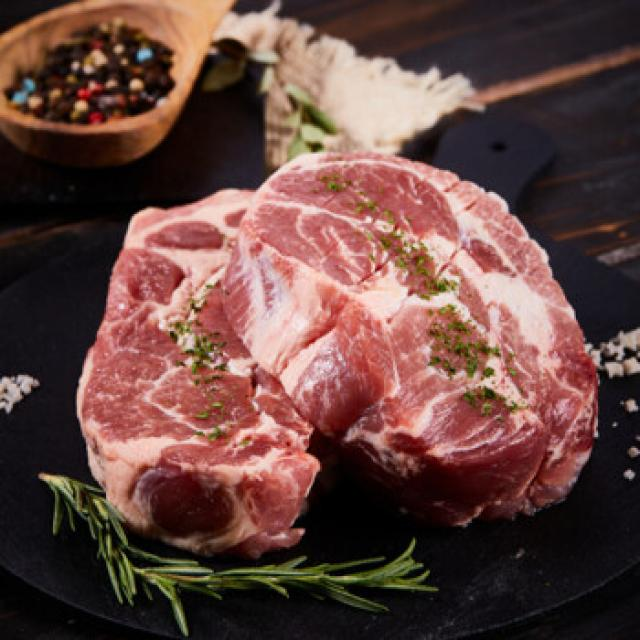pork: (36, 125, 615, 559)
